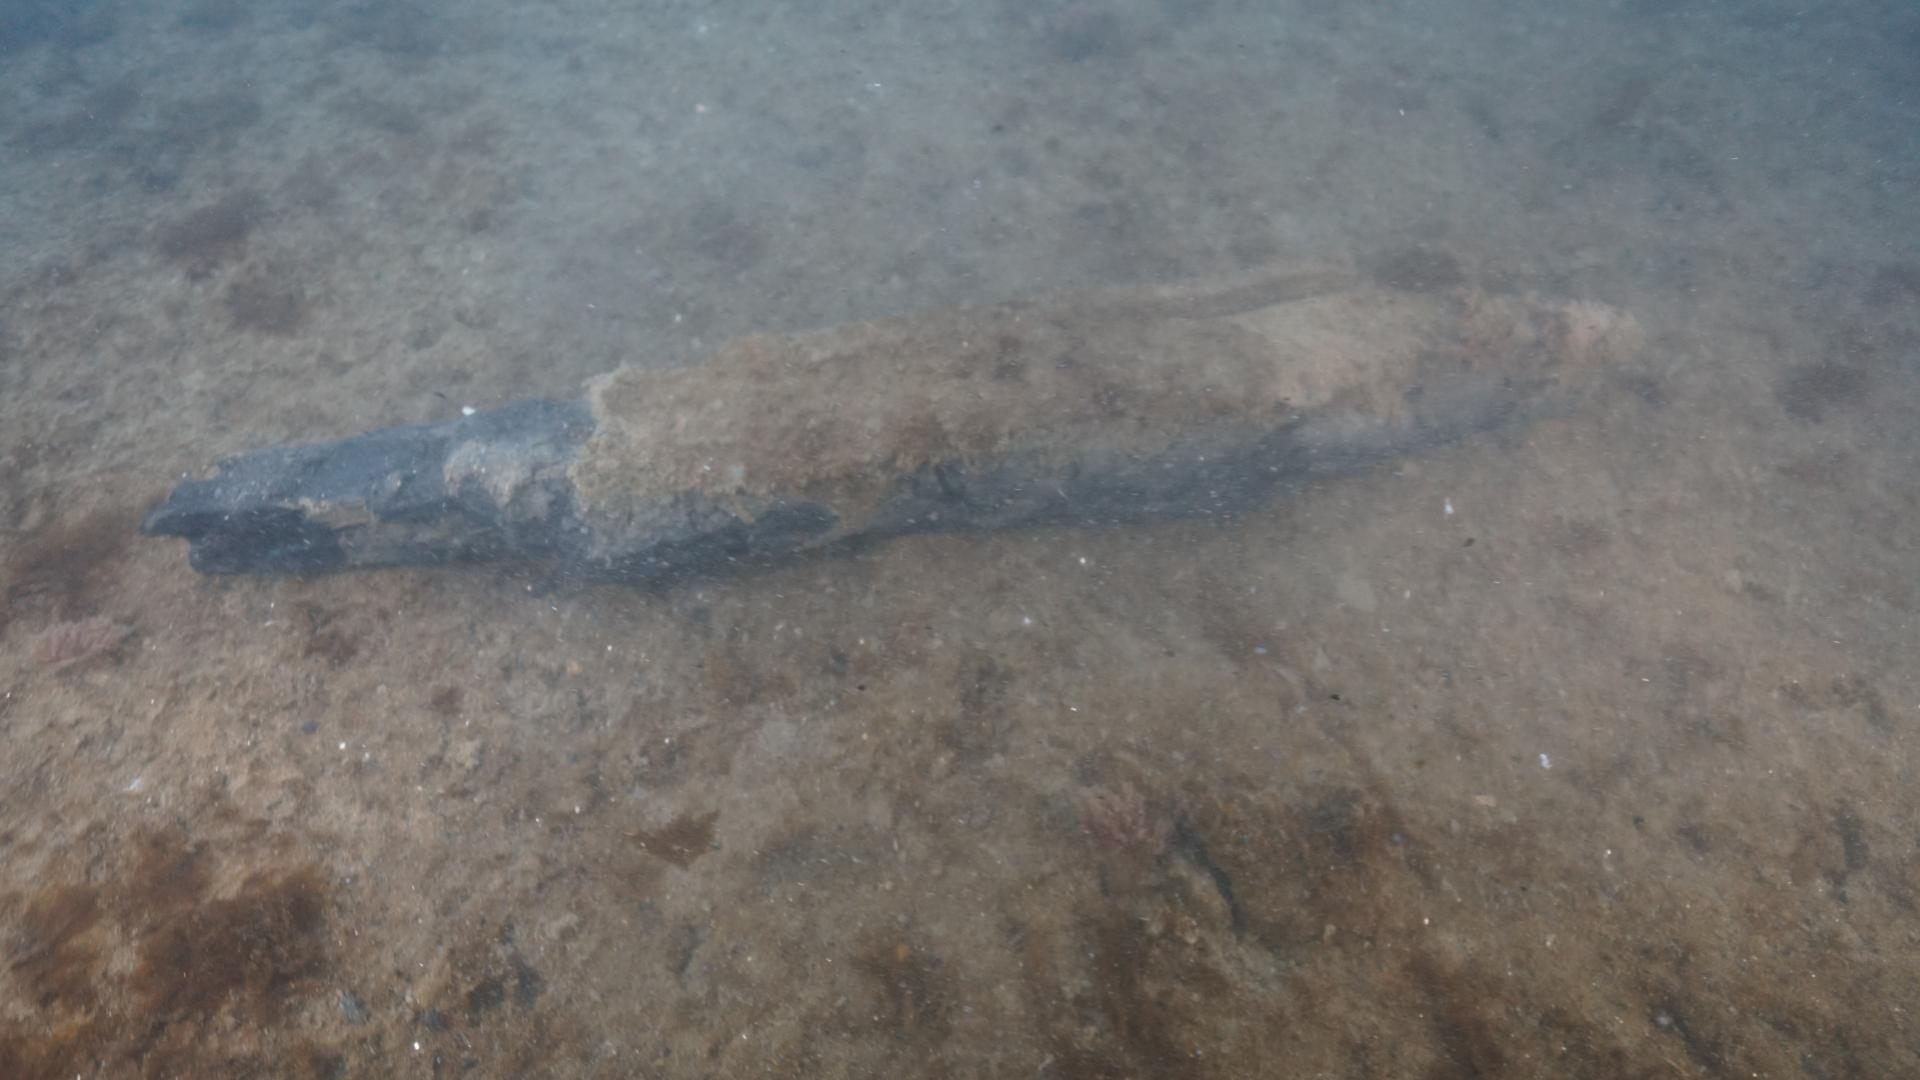wood: (131, 253, 1663, 597)
